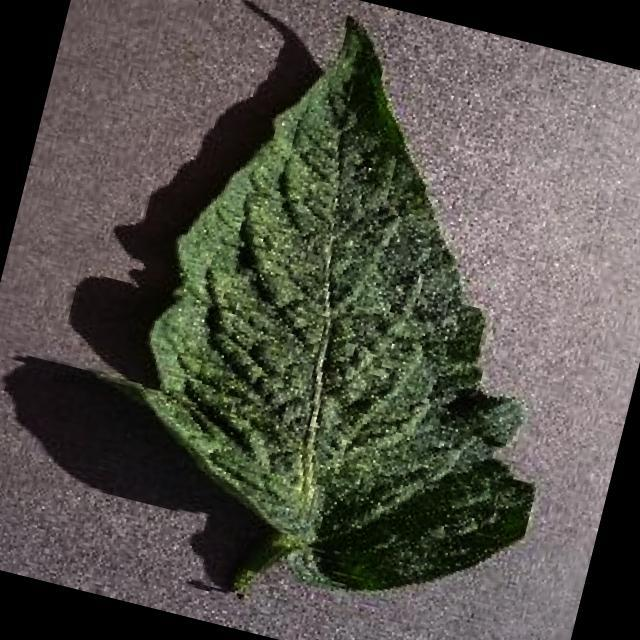Tomato spider mites leaf: (99, 0, 637, 632)
